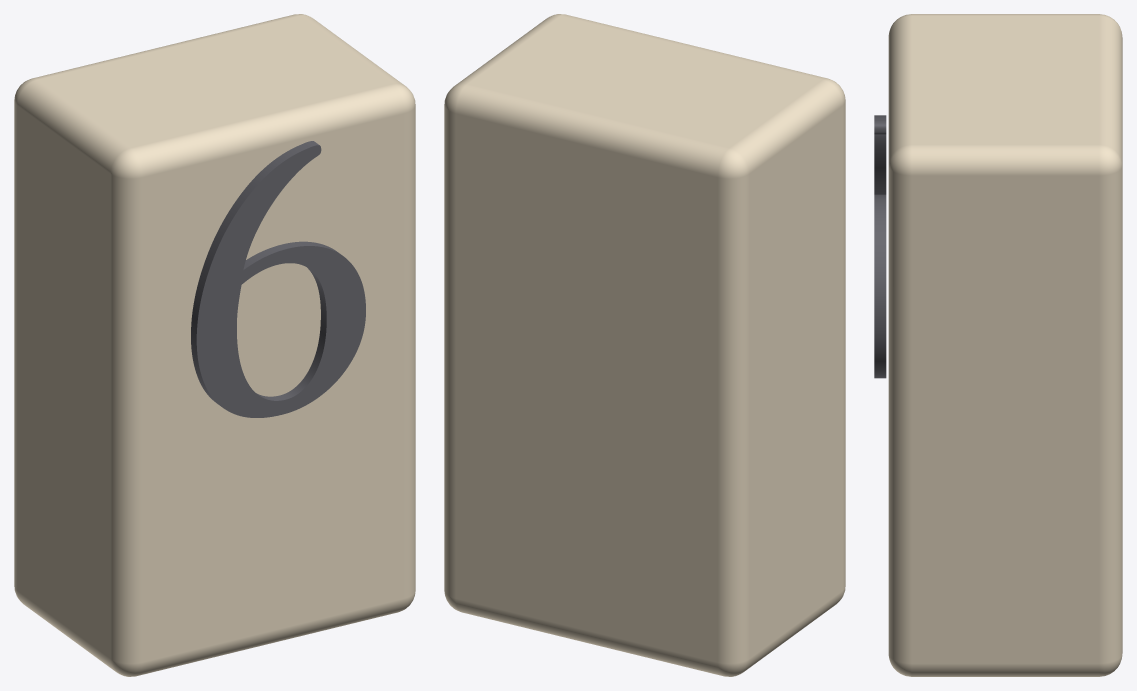
Rendered from pin_6.gltf.
3 views of the same model, side by side, from view 1: azimuth 30°, elevation 25°; view 2: azimuth 150°, elevation 25°; view 3: azimuth 270°, elevation 25° (orthographic).
Visible parts, largest first — view 1: White, Black; view 2: White; view 3: White, Black.
Boxes of the visible parts, left/top/right/bottom form: White: left=14, top=14, right=415, bottom=676; Black: left=191, top=141, right=365, bottom=417; White: left=444, top=14, right=845, bottom=676; White: left=888, top=14, right=1122, bottom=676; Black: left=874, top=115, right=886, bottom=378.
Bounding box in the file's own units: 1.5 × 2.5 × 1.06.
